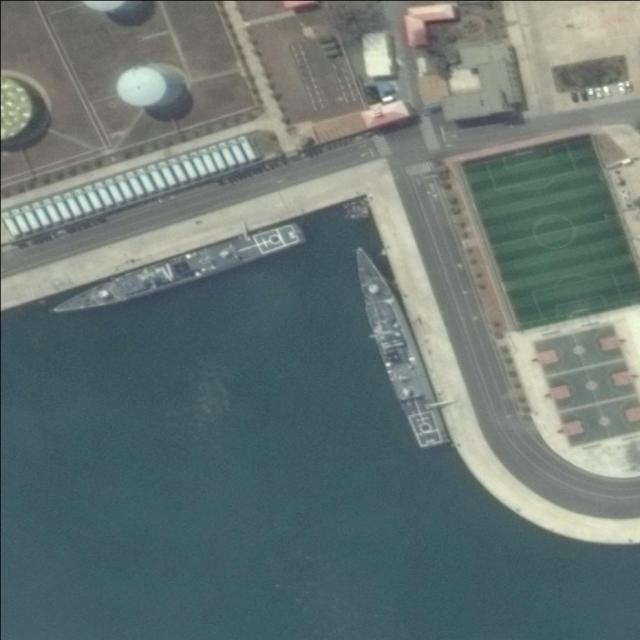Auxiliary Ships: (45, 217, 310, 321), (345, 237, 447, 452)
